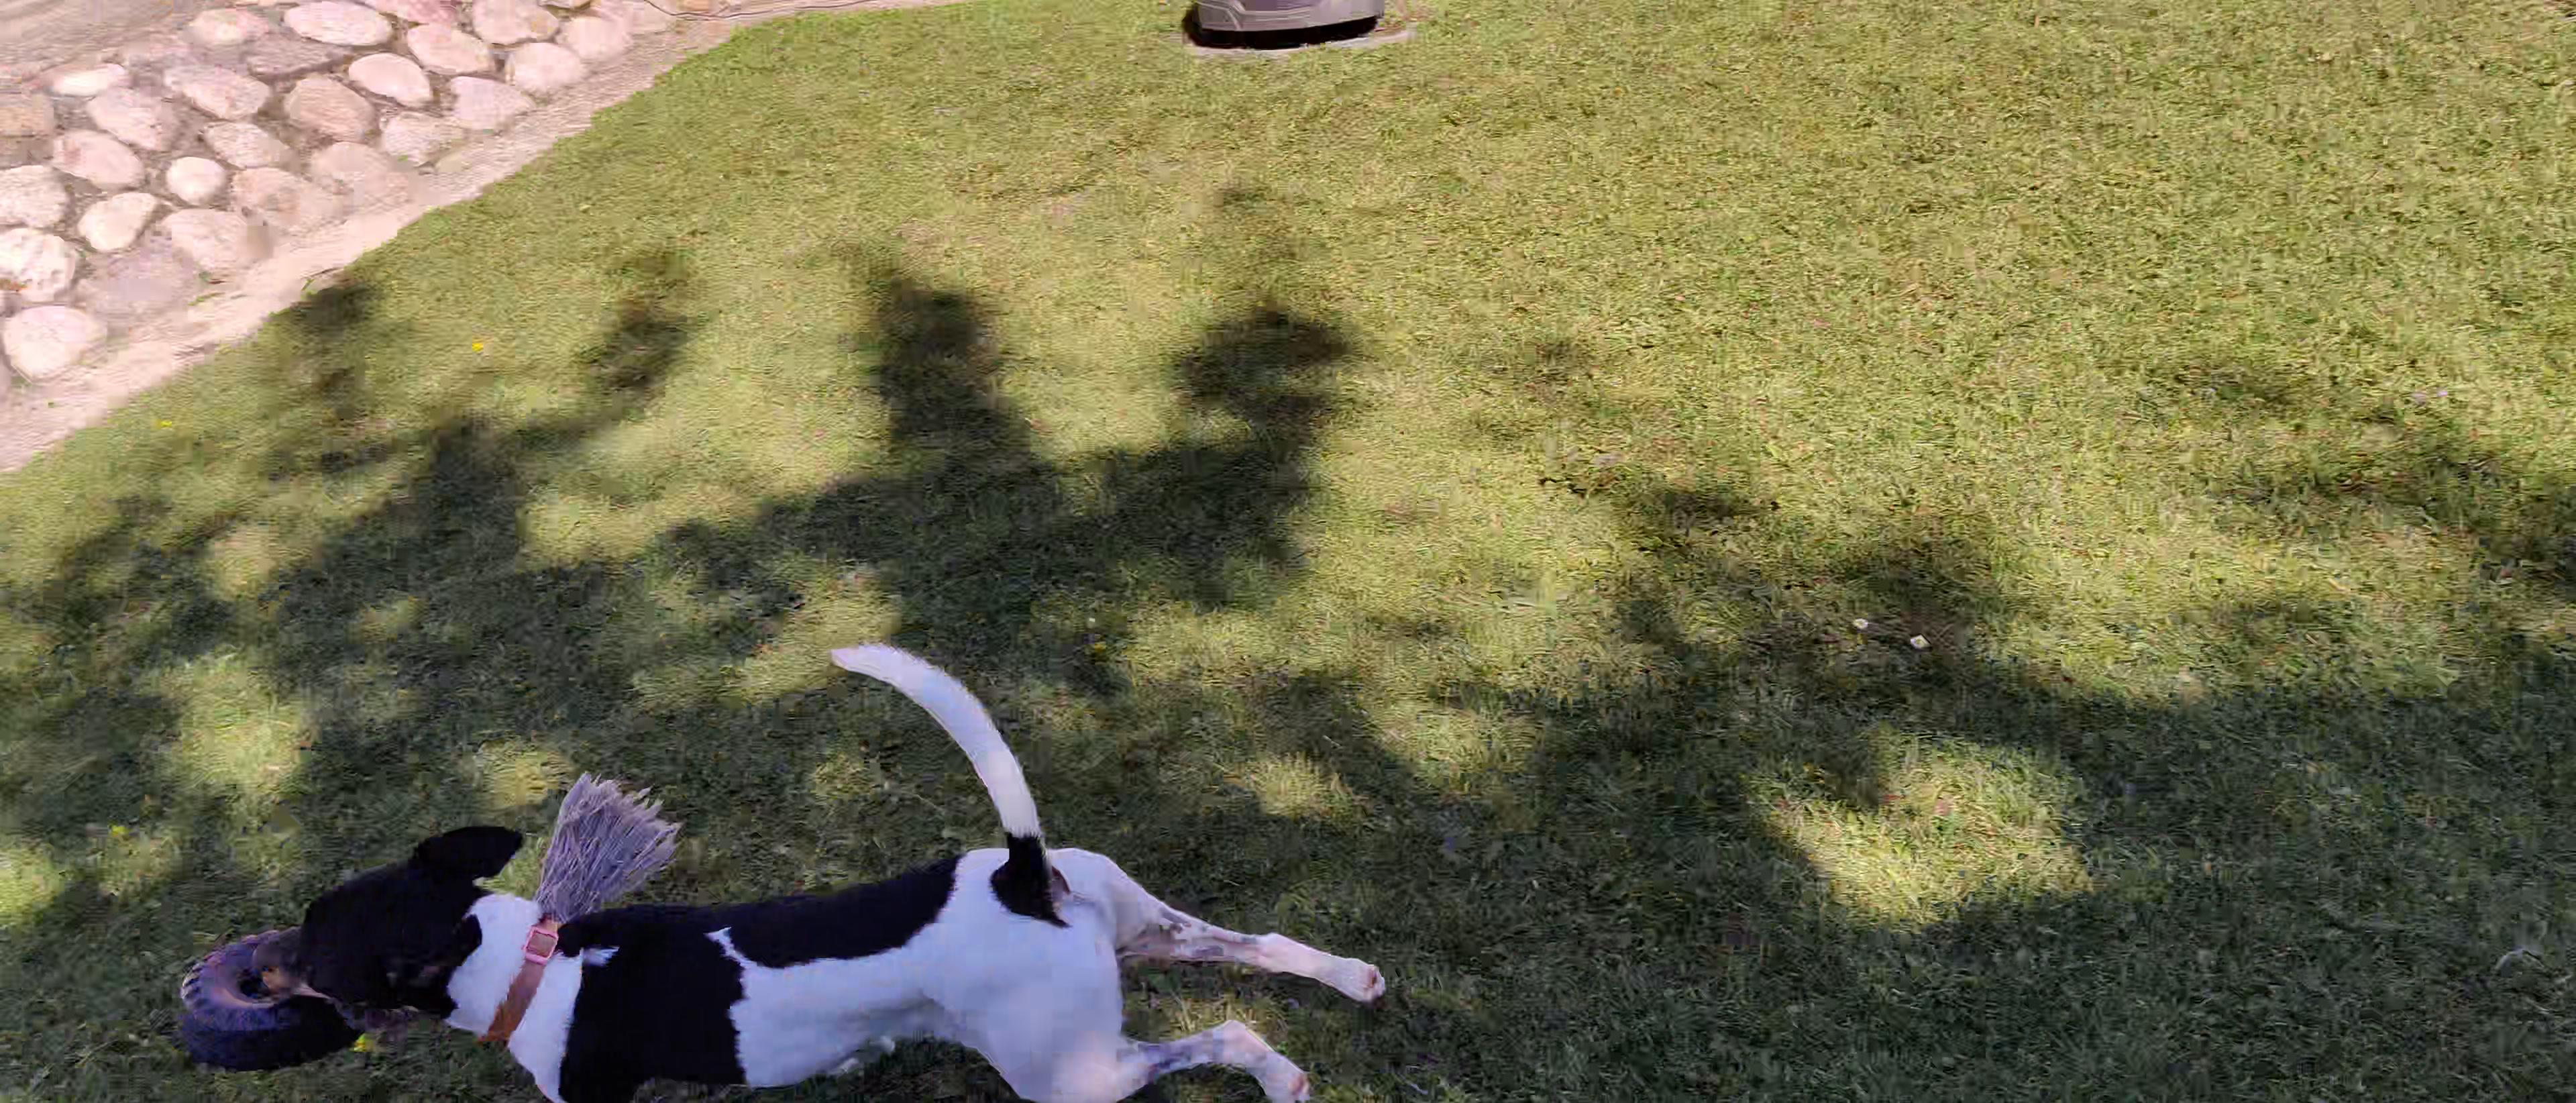Dog: (233, 616, 1405, 1103)
